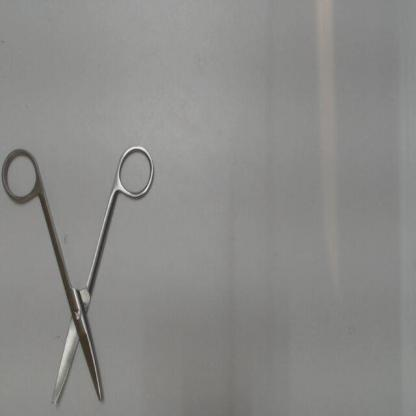Curved Mayo Scissors: (1, 139, 160, 411)
